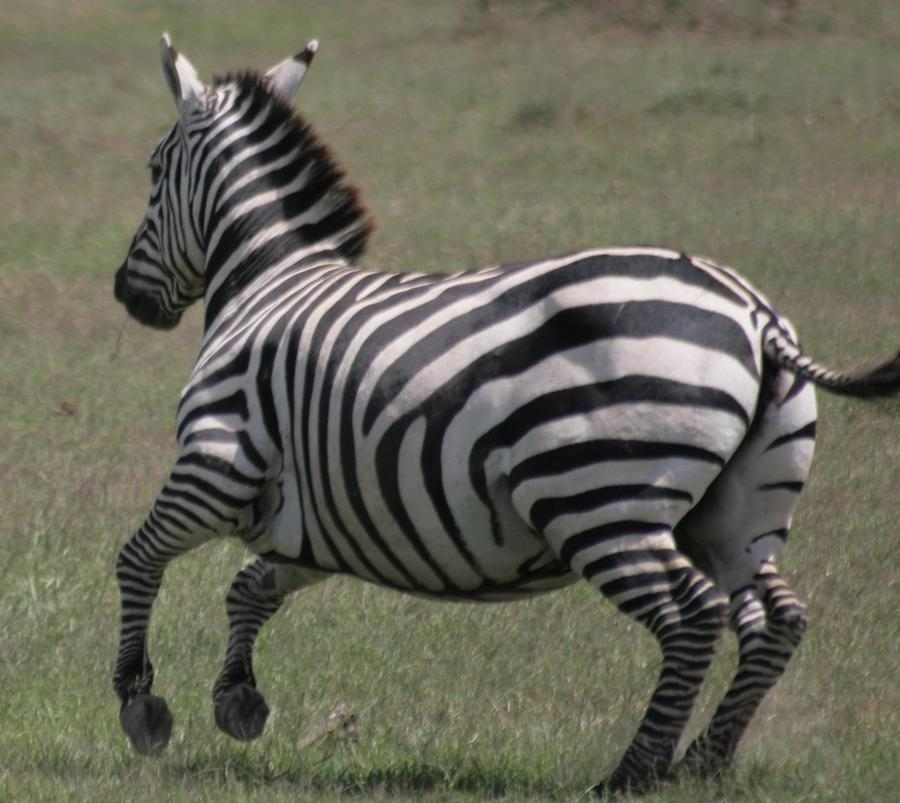zebra_plains: (203, 242, 688, 604)
